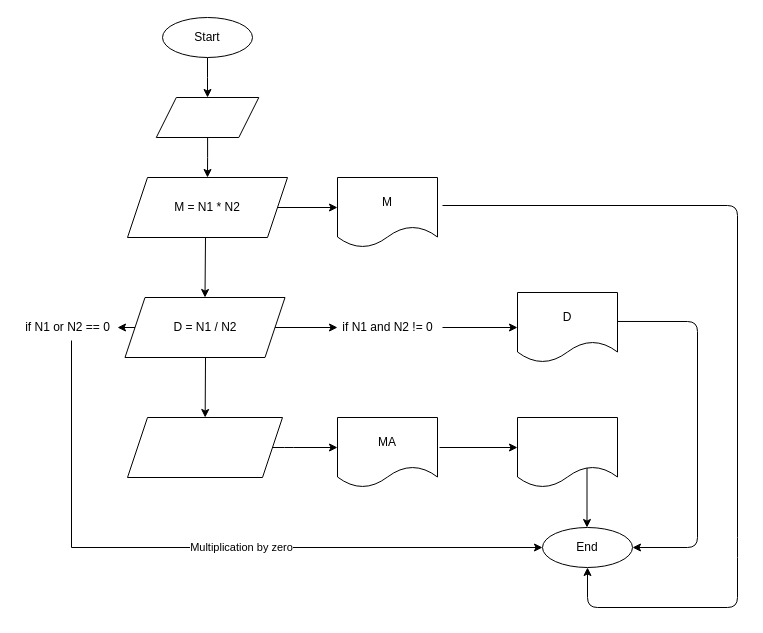
Image size: 763x633. Some labels were removed from this diagram. The box of each missing label's shape, as (x1, y1, x2, y2) in pixels:
Disapproved: (516, 416, 618, 488)
MA = (N1 + N2 + N3) / 3: (126, 416, 282, 478)
N1, N2, N3: (155, 96, 259, 138)
